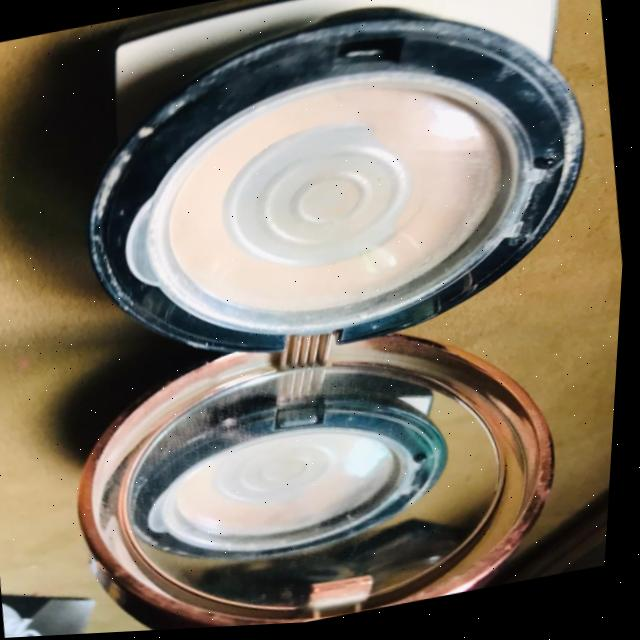powder: (79, 0, 610, 434)
